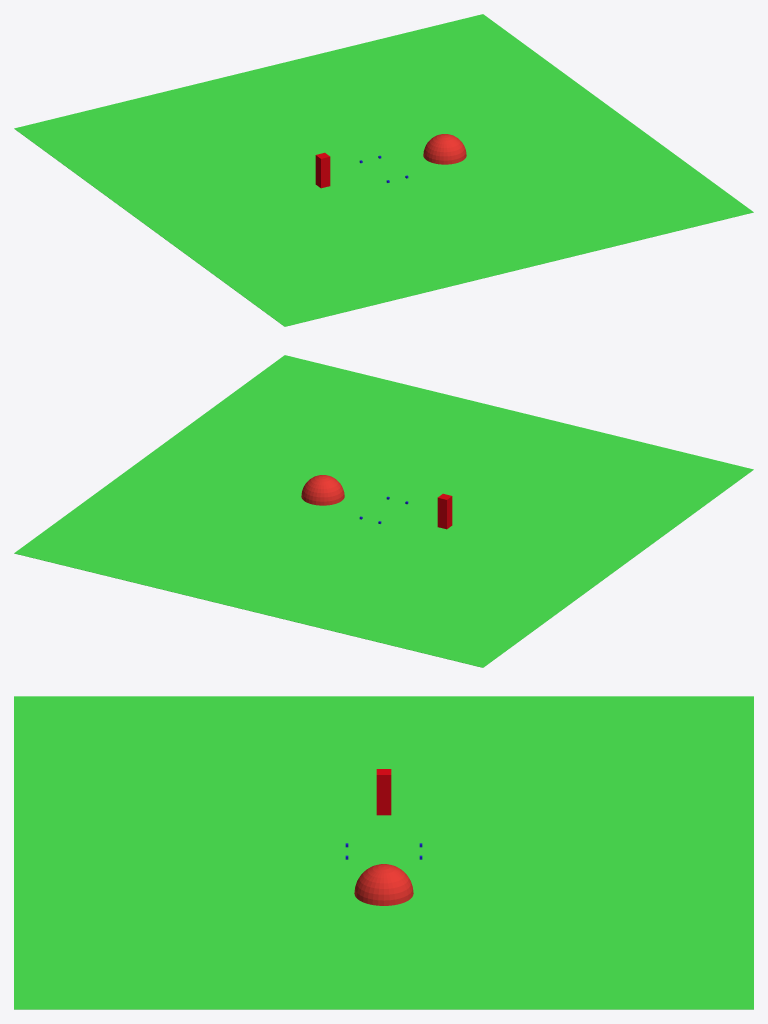
File: starter_world2.glb
3 views of the same model, one above another, from view 1: azimuth 30°, elevation 25°; view 2: azimuth 150°, elevation 25°; view 3: azimuth 270°, elevation 25° (orthographic). The views are drawn at different scales.
Parts seen in each view (by area): view 1: ground, dome1, building1; view 2: ground, dome1, building1; view 3: ground, dome1, building1.
Boxes of the visible parts, x1,y1,x2,y2 form: ground: (14, 14, 753, 326); dome1: (423, 134, 466, 164); building1: (315, 152, 330, 188); ground: (14, 355, 753, 667); dome1: (301, 475, 344, 505); building1: (437, 493, 452, 529); ground: (14, 696, 753, 1009); dome1: (354, 864, 413, 905); building1: (376, 769, 391, 815).
Bounding box in the file's own units: 500 × 50 × 500.
